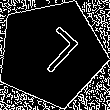L_SW: (22, 24, 80, 82)
